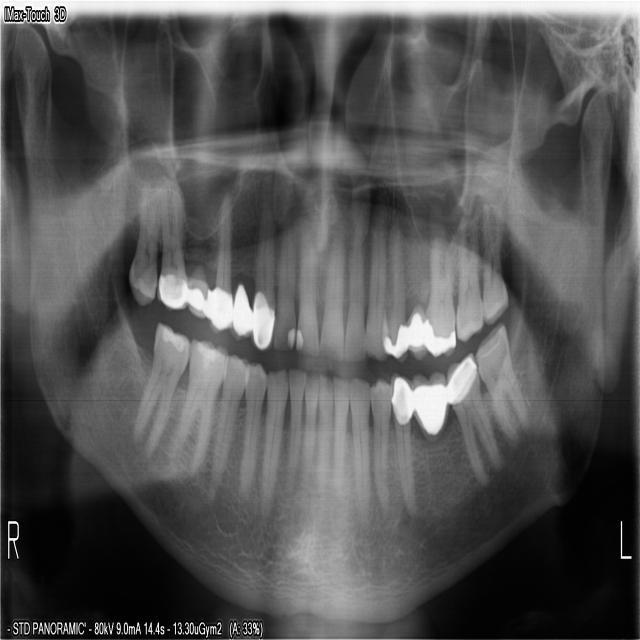LCU: (360, 202, 393, 366)
LID: (315, 371, 335, 525), (330, 372, 350, 508)
LIU: (316, 215, 345, 365), (342, 208, 367, 367)
LMD: (443, 345, 504, 491), (473, 317, 531, 449)
LMU: (453, 205, 485, 344), (479, 192, 509, 332)
LPMU: (378, 201, 411, 368)
RCD: (255, 358, 289, 527), (347, 369, 369, 527)
RCU: (248, 187, 275, 352)
RID: (283, 359, 306, 502), (297, 365, 320, 503)
RIU: (270, 204, 296, 353), (293, 212, 318, 356)
RMD: (162, 334, 229, 474), (130, 316, 191, 459)
RMU: (155, 171, 189, 324), (123, 166, 159, 308)
RPMD: (206, 348, 251, 498), (234, 356, 269, 507), (387, 367, 416, 522), (365, 370, 393, 522)
